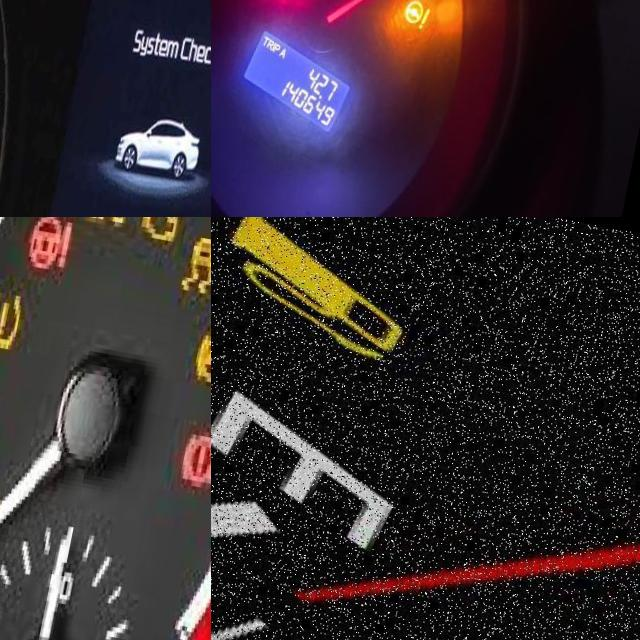Electronic Power Steering: (27, 217, 85, 273), (410, 0, 449, 18)
Seat Belt: (0, 378, 14, 448)
